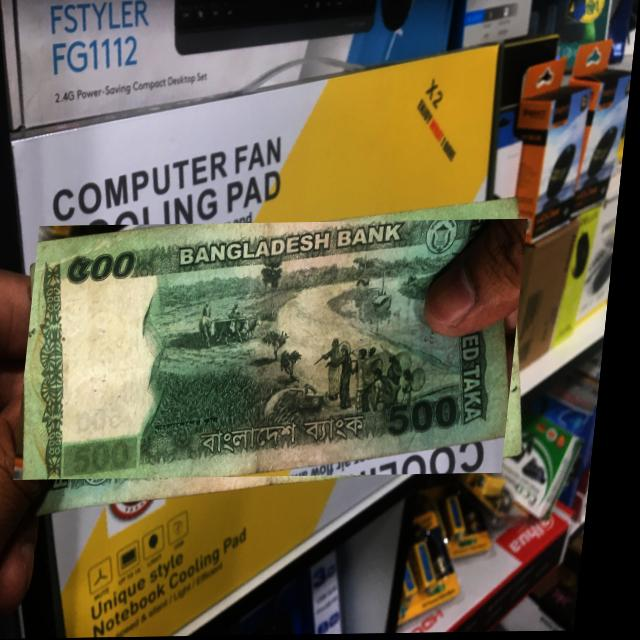Taka: (24, 221, 532, 481)
